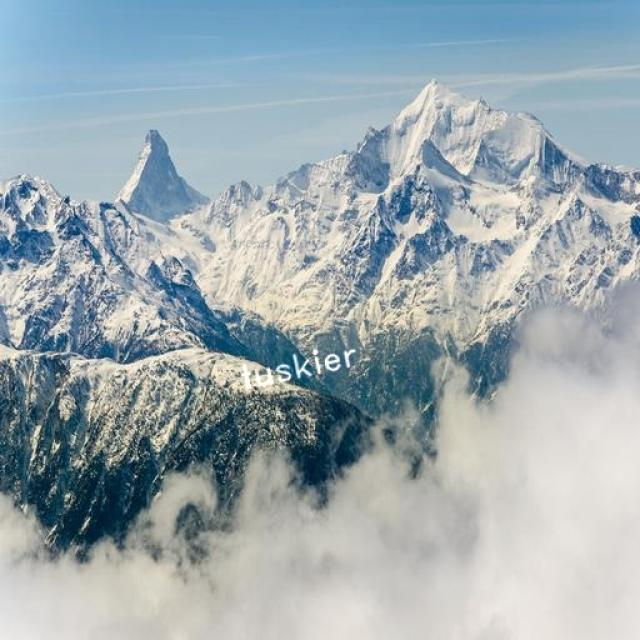watermark: (234, 339, 358, 395)
